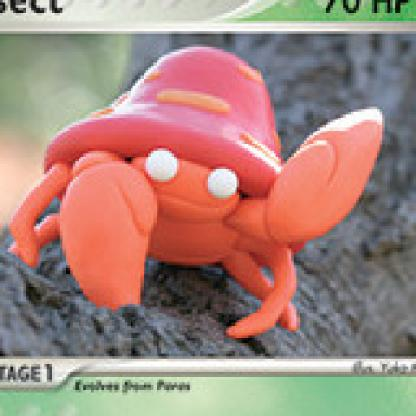Parasect: (11, 51, 382, 328)
